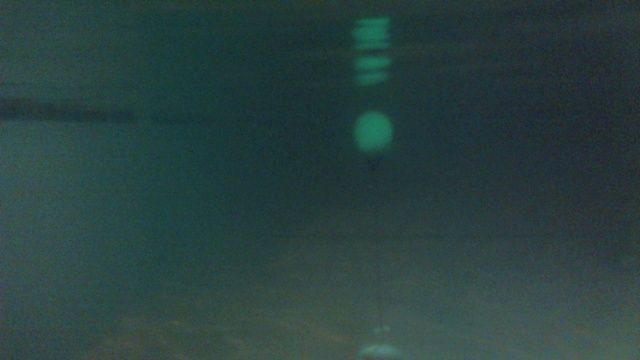buoy_green: (349, 105, 395, 171)
